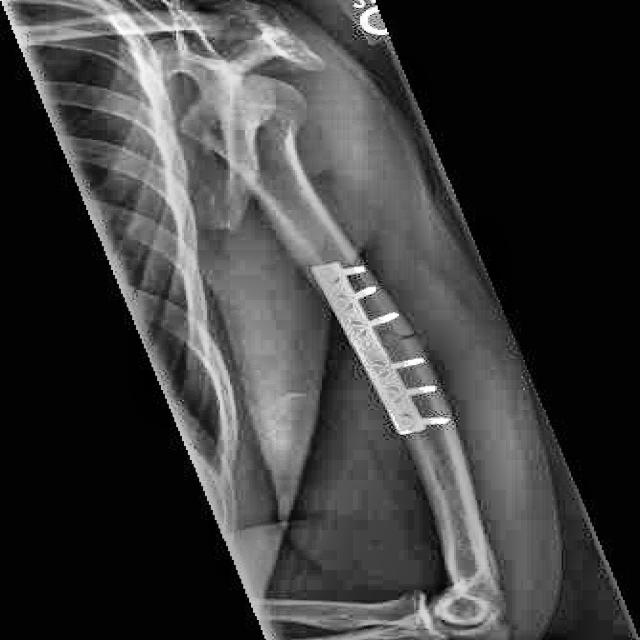humerus: (374, 293, 468, 373)
